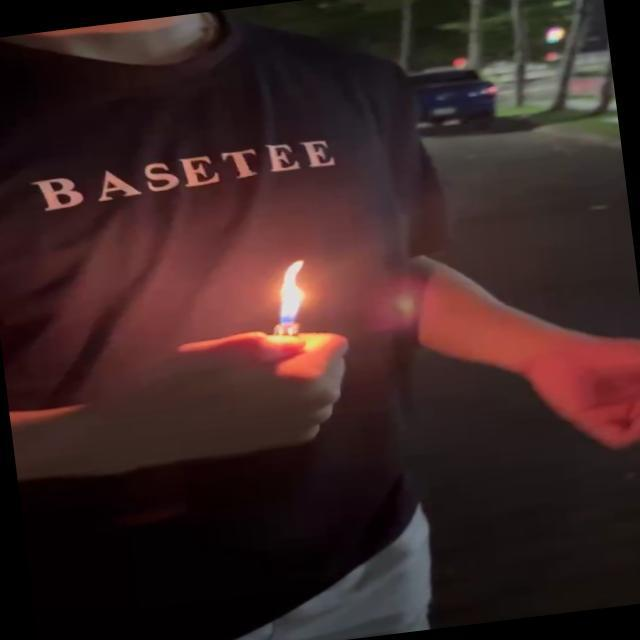Fire: (271, 256, 315, 326)
